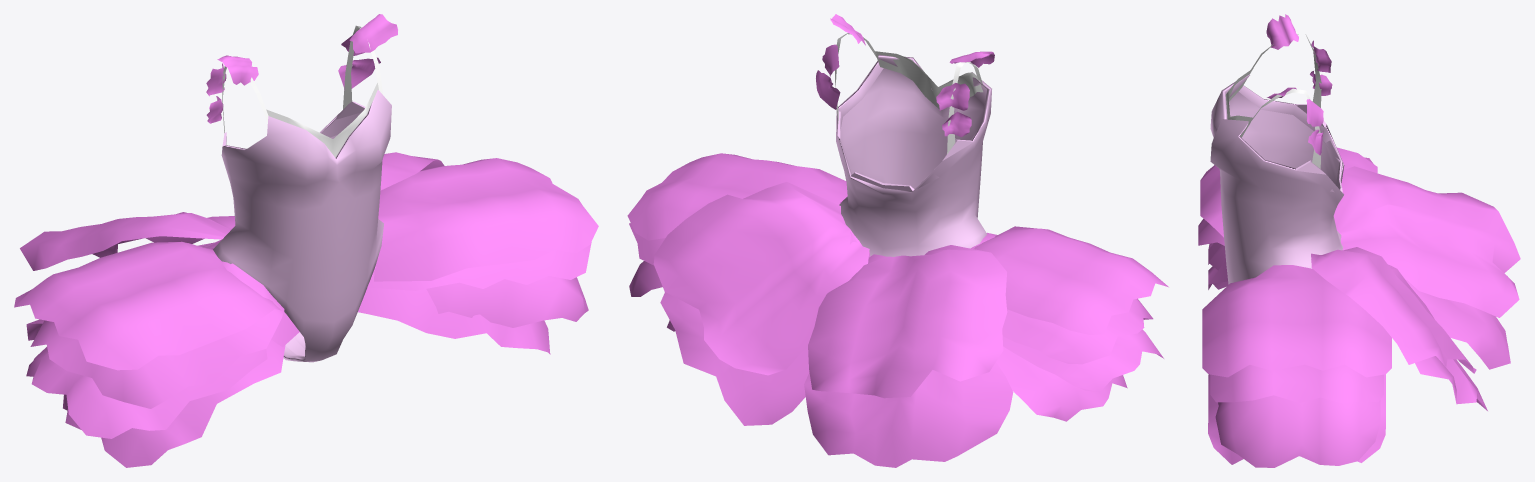
3 renders of one model, left to right at view 1: azimuth 30°, elevation 25°; view 2: azimuth 150°, elevation 25°; view 3: azimuth 270°, elevation 25°, orthographic. The views are drawn at different scales.
Parts seen in each view (by area): view 1: OnePieceSwimsuit:skirt_top7; view 2: OnePieceSwimsuit:skirt_top7; view 3: OnePieceSwimsuit:skirt_top7.
Boxes of the visible parts, x1,y1,x2,y2 form: OnePieceSwimsuit:skirt_top7: [14, 14, 598, 467]; OnePieceSwimsuit:skirt_top7: [627, 14, 1168, 467]; OnePieceSwimsuit:skirt_top7: [1198, 14, 1520, 467].
Bounding box in the file's own units: 1.21 × 0.7843 × 0.6962.
